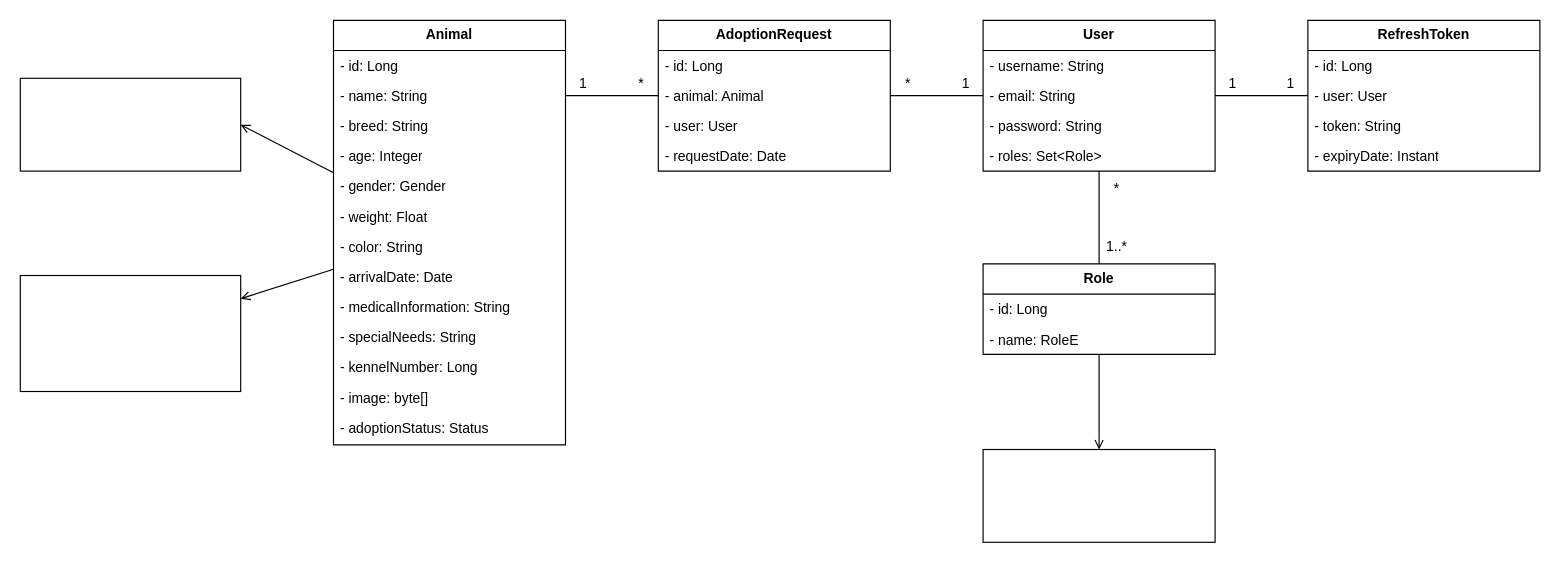
The diagram is 1560 pixels wide and 563 high, and some of its shapes have lost their labels. The centre of each missing label's shape, as x and y in pixels:
"<<Enumeration>> Gender + MALE + FEMALE" belongs at [130,124].
"<<Enumeration>> RoleE + ROLE_USER + ROLE_ADMIN" belongs at [1098,495].
"<<Enumeration>> Status + NOT_ADOPTED + ADOPTED + PENDING" belongs at [130,333].
